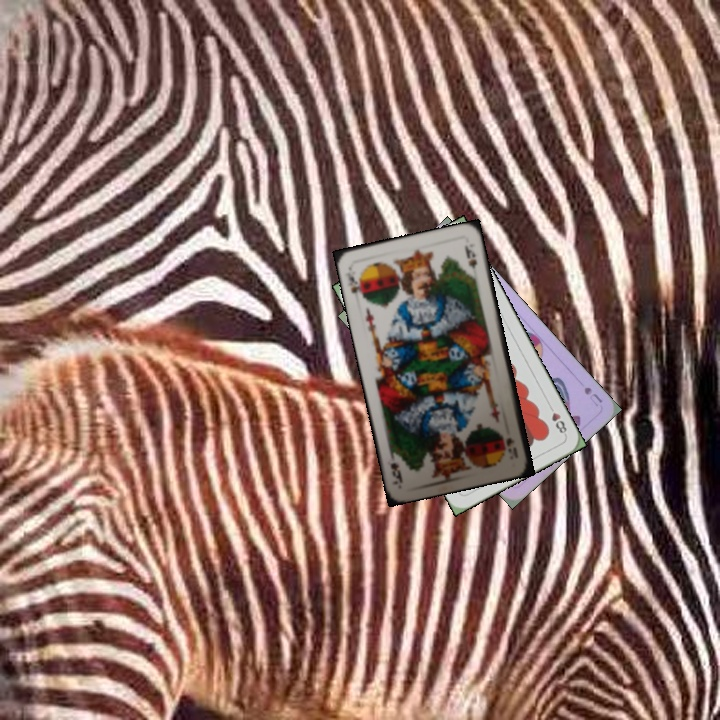H8: (544, 401, 569, 438)
SK: (344, 271, 367, 301), (502, 433, 521, 461)
SU: (580, 383, 605, 410)
